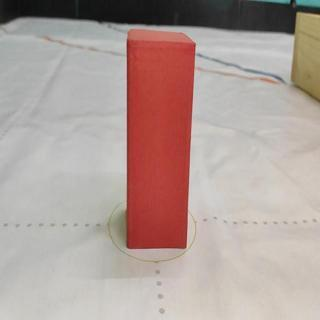redbox: (126, 29, 196, 248)
